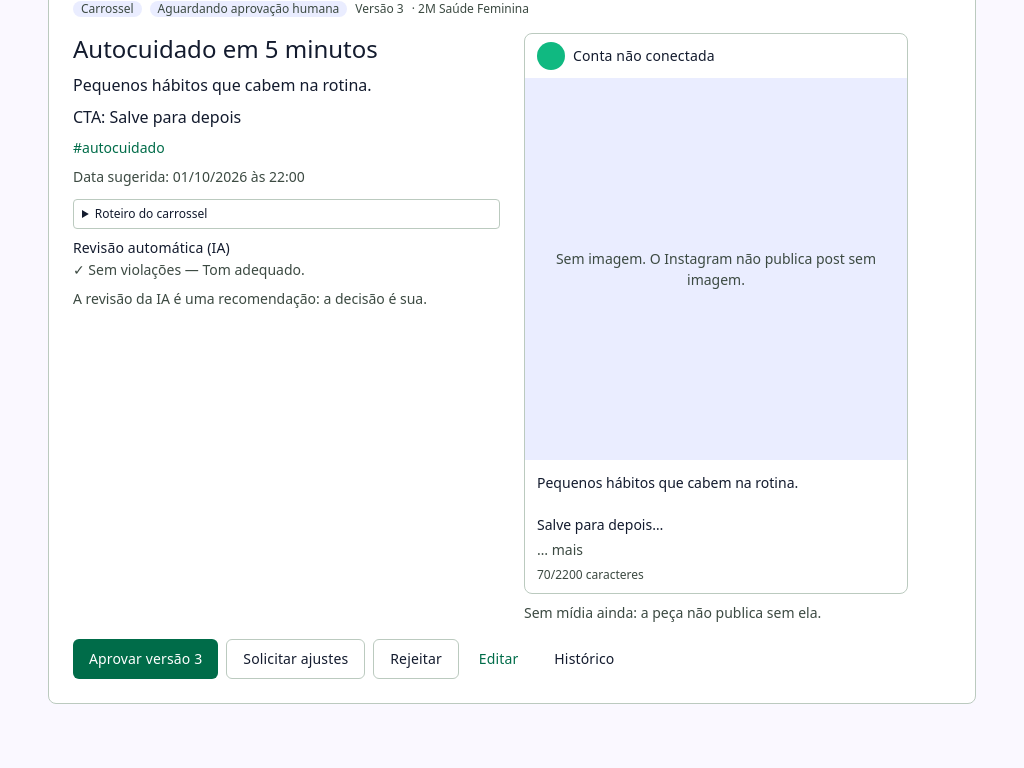
Test: aprovar pede confirmação e manda a versão da tela com uma request_key
(page scrolled)
Step 1. Click the button "Aprovar versão 3" → (146, 659), box [73,639,218,679]
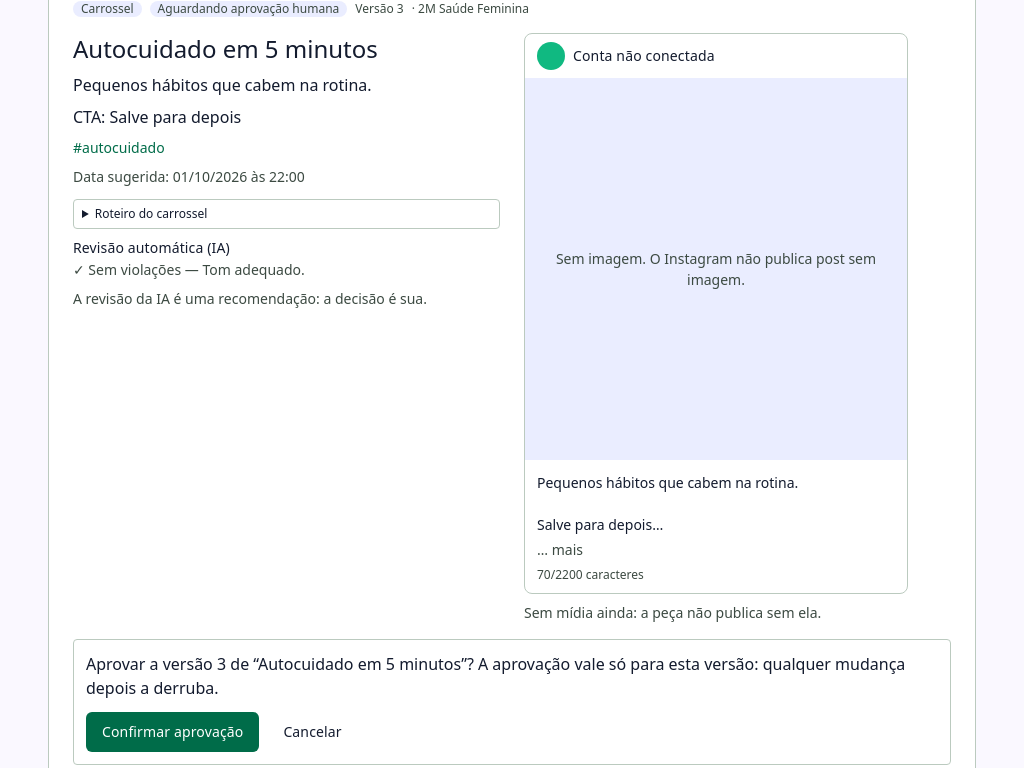
Result: the dialog named "Confirmar aprovação" shows "vale só para esta versão" at [86,653,905,699]
Step 2. Click the button "Confirmar aprovação" → (173, 732), box [86,712,259,752]
(page scrolled)
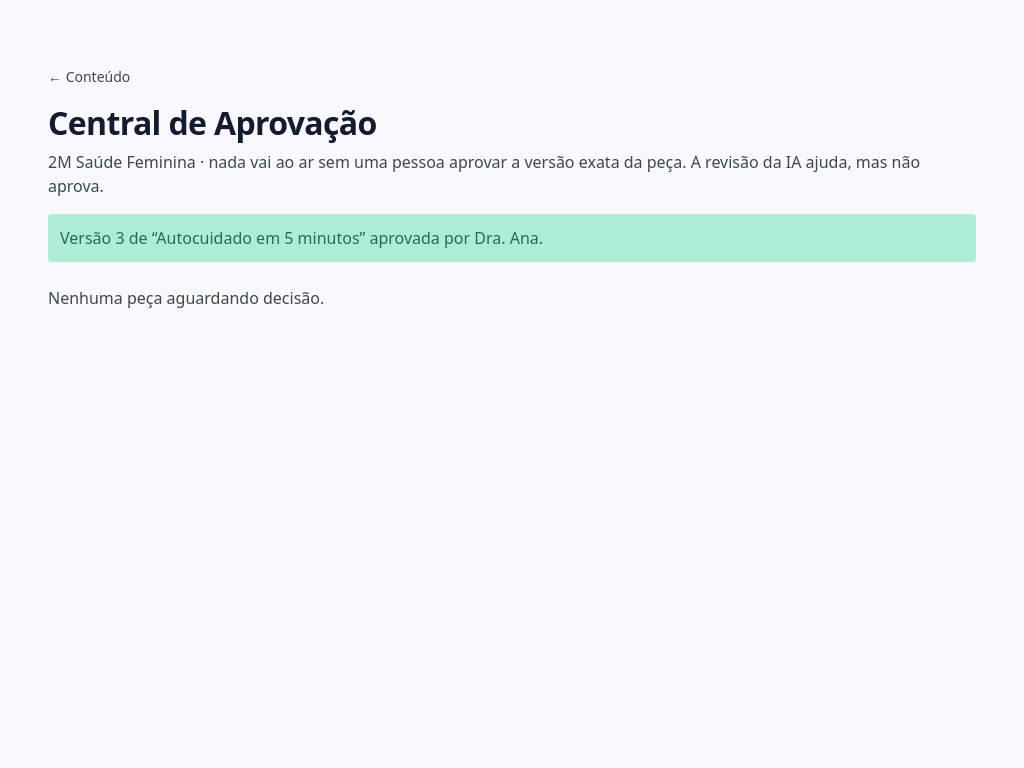
Result: the message reads "Versão 3 de “Autocuidado em 5 minutos” aprovada por Dra. Ana." at [60,227,543,249]
Result: the text "Nenhuma peça aguardando decisão." is shown at [48,287,324,309]
